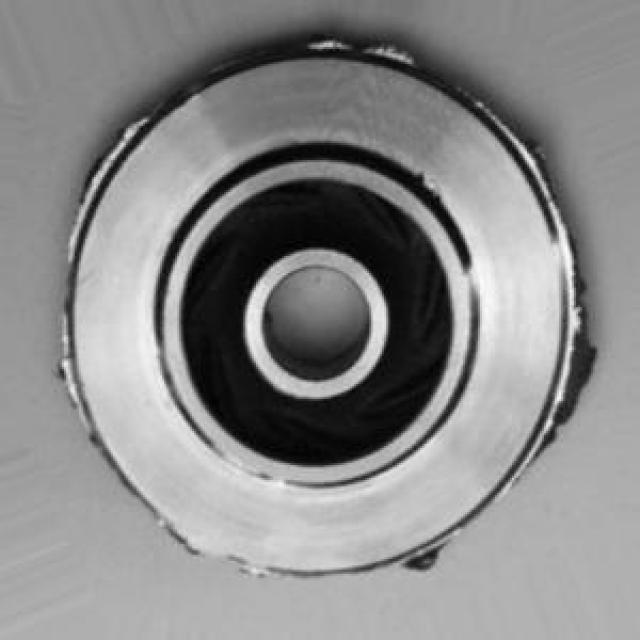Defect: (358, 32, 412, 68)
